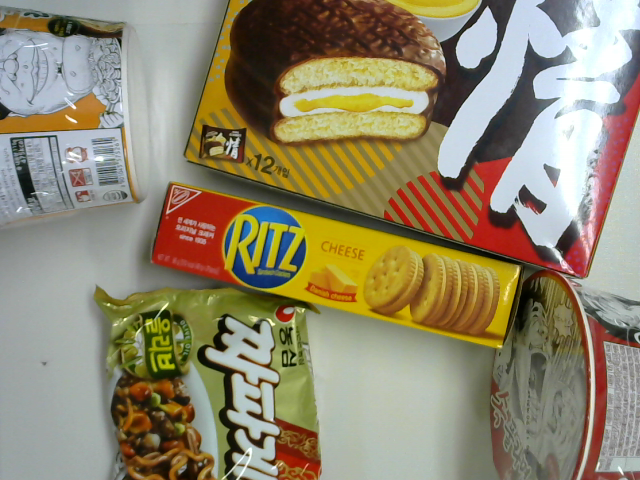Choco_Pie_Banana: (182, 1, 640, 278)
Hejangchan: (1, 2, 153, 231)
Hejangpul: (486, 266, 639, 480)
Olive_Chapaghetti: (87, 281, 328, 480)
Ritz_Sand_Cracker: (149, 178, 525, 352)
